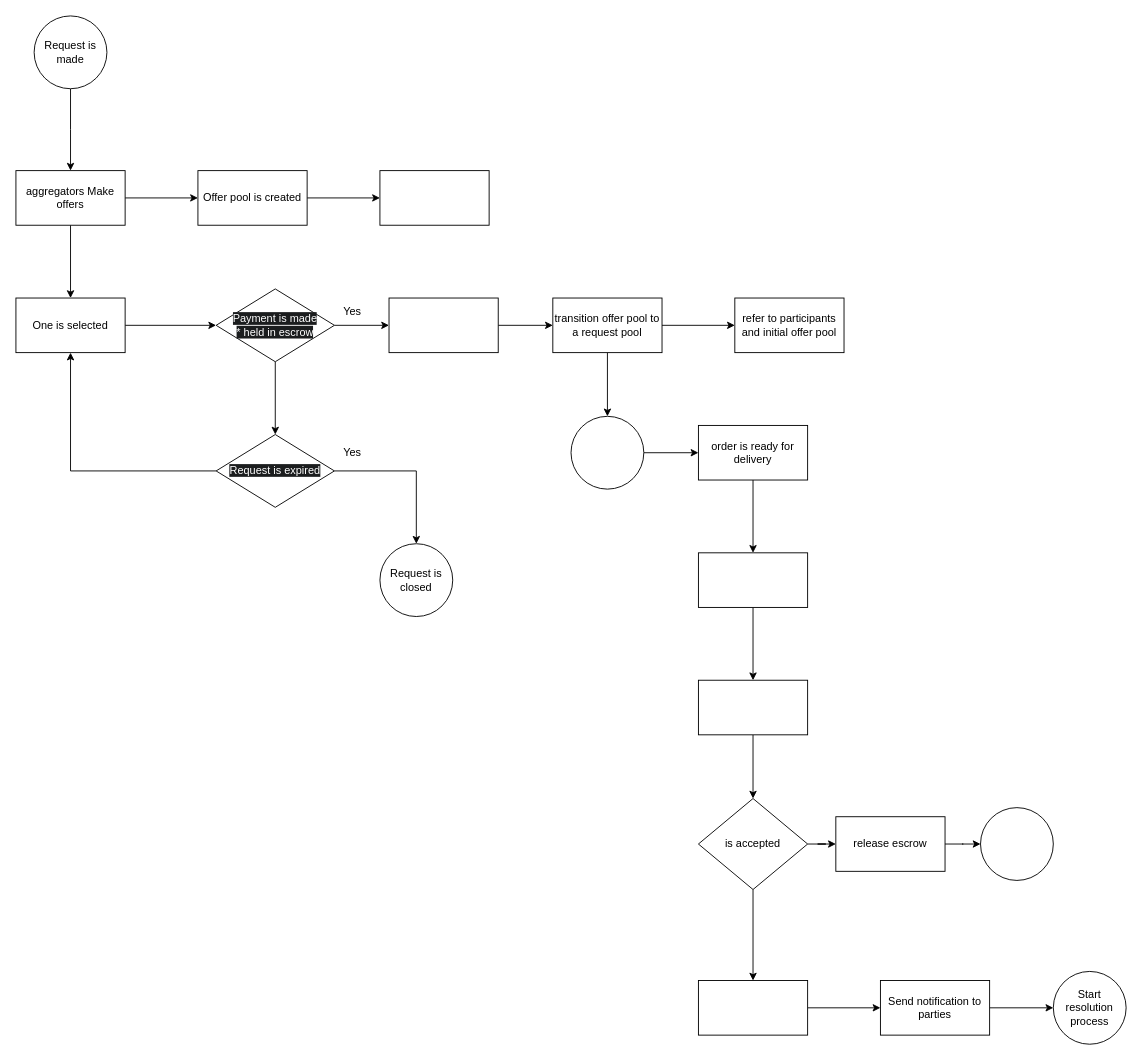
The diagram is 1142 pixels wide and 1060 high, and some of its shapes have lost their labels. Each missing label, with the centre of its shape:
Aggregator adds participants: point (434, 197)
Completed: point (1016, 843)
delivered: point (753, 707)
dispatched: point (753, 579)
Opens dispute: point (753, 1007)
Other offers rejected: point (443, 325)
request is processing: point (607, 452)
